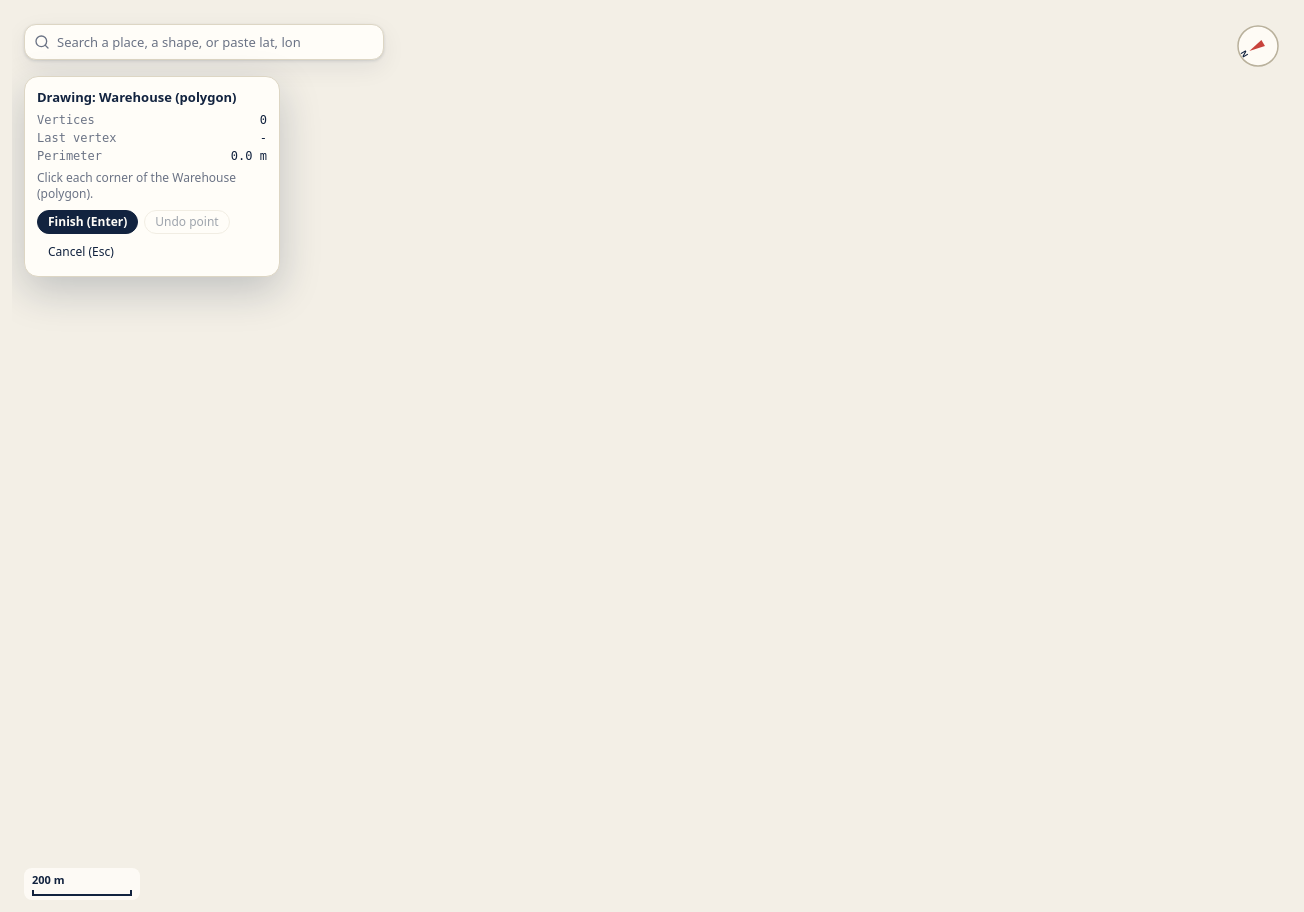
it: drawing › cancels with the button
Click the button "Cancel (Esc)" at (81, 252), box [37, 240, 125, 264]
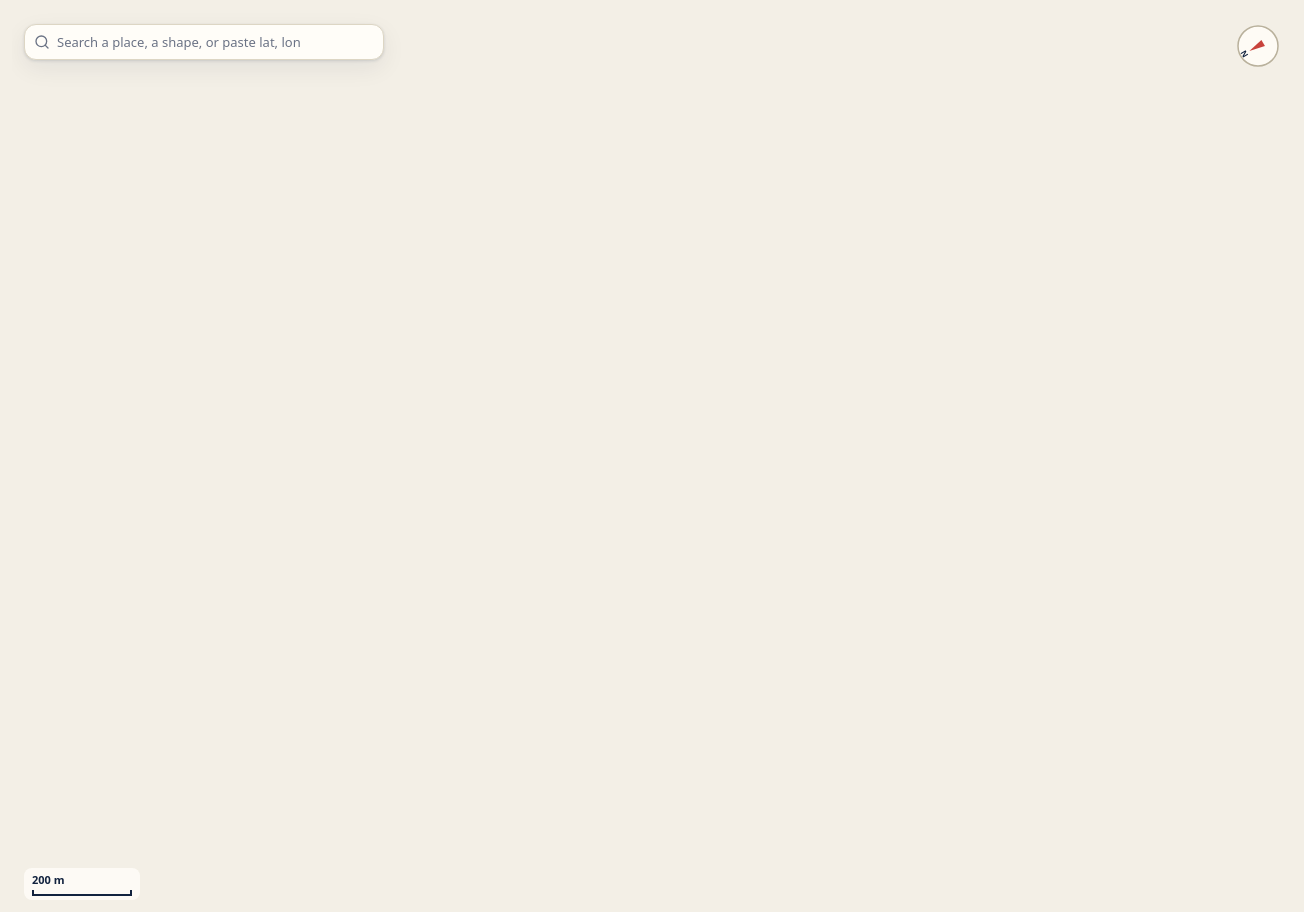
Expected: the element with test id "draw-readout" is gone
